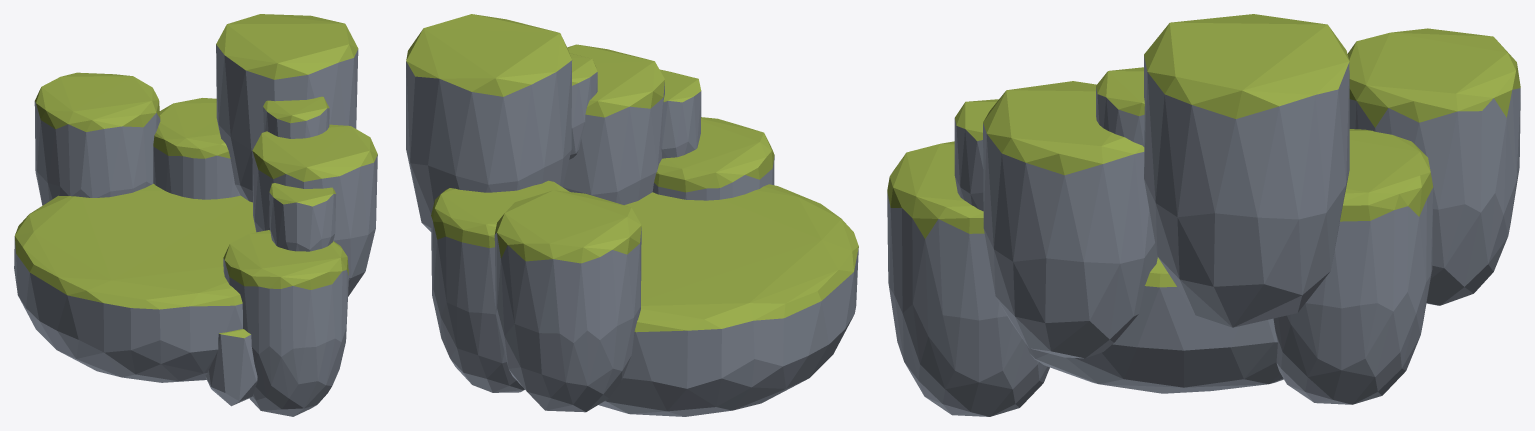
File: Final Island.fbx
3 views of the same model, side by side, from view 1: azimuth 30°, elevation 25°; view 2: azimuth 150°, elevation 25°; view 3: azimuth 270°, elevation 25° (orthographic). The views are drawn at different scales.
Parts seen in each view (by area): view 1: Cube.026, Cube.038, Cube.035, Cube.039, Cube.037, Cube.036, Cube.042, Cube.041, Cube.040; view 2: Cube.026, Cube.039, Cube.035, Cube.036, Cube.037, Cube.038, Cube.042, Cube.040; view 3: Cube.035, Cube.037, Cube.039, Cube.036, Cube.038, Cube.026, Cube.040, Cube.042.
Boxes of the visible parts, x1,y1,x2,y2 form: Cube.026: [14, 183, 255, 382]; Cube.038: [223, 230, 348, 416]; Cube.035: [216, 14, 358, 202]; Cube.039: [34, 72, 160, 205]; Cube.037: [252, 124, 377, 296]; Cube.036: [153, 98, 240, 199]; Cube.042: [269, 183, 336, 251]; Cube.041: [205, 329, 257, 406]; Cube.040: [263, 96, 329, 138]; Cube.026: [599, 184, 858, 416]; Cube.039: [494, 190, 641, 412]; Cube.035: [406, 14, 572, 231]; Cube.036: [431, 180, 569, 392]; Cube.037: [563, 44, 664, 204]; Cube.038: [652, 117, 774, 200]; Cube.042: [659, 69, 701, 158]; Cube.040: [569, 53, 597, 159]; Cube.035: [1144, 14, 1349, 327]; Cube.037: [983, 81, 1157, 358]; Cube.039: [1347, 28, 1520, 305]; Cube.036: [1273, 129, 1433, 404]; Cube.038: [887, 141, 1049, 416]; Cube.026: [1026, 257, 1283, 393]; Cube.040: [1096, 67, 1144, 146]; Cube.042: [954, 99, 998, 211].
Bounding box in the file's own units: 4325 × 3610 × 4809.
